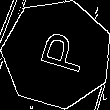P_W: (27, 29, 87, 79)
